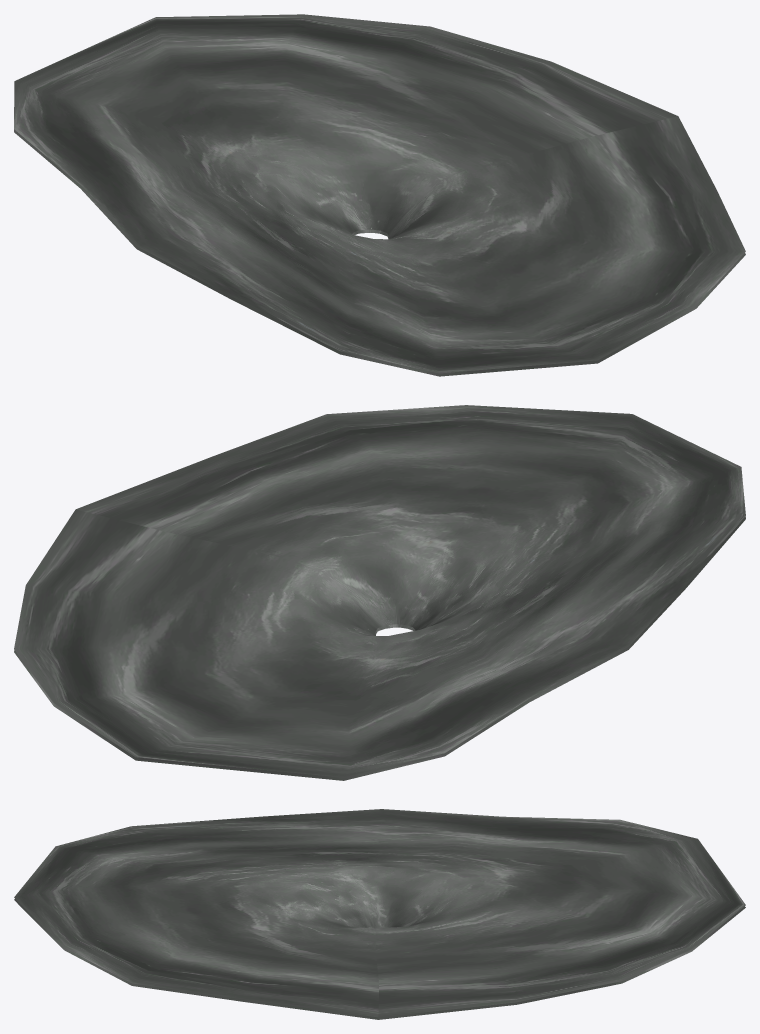
Rendered from 00_01_ripples_sink.dae.
3 views of the same model, one above another, from view 1: azimuth 30°, elevation 25°; view 2: azimuth 150°, elevation 25°; view 3: azimuth 270°, elevation 25° (orthographic). The views are drawn at different scales.
Visible parts, largest first — view 1: water_ripples_sink; view 2: water_ripples_sink; view 3: water_ripples_sink.
Part boxes in pixels (x1=…): water_ripples_sink: x1=14, y1=14, x2=745, y2=376; water_ripples_sink: x1=14, y1=405, x2=745, y2=780; water_ripples_sink: x1=14, y1=809, x2=745, y2=1019.
Size of the model in its own units: 0.2599 by 0.0225 by 0.3857.
